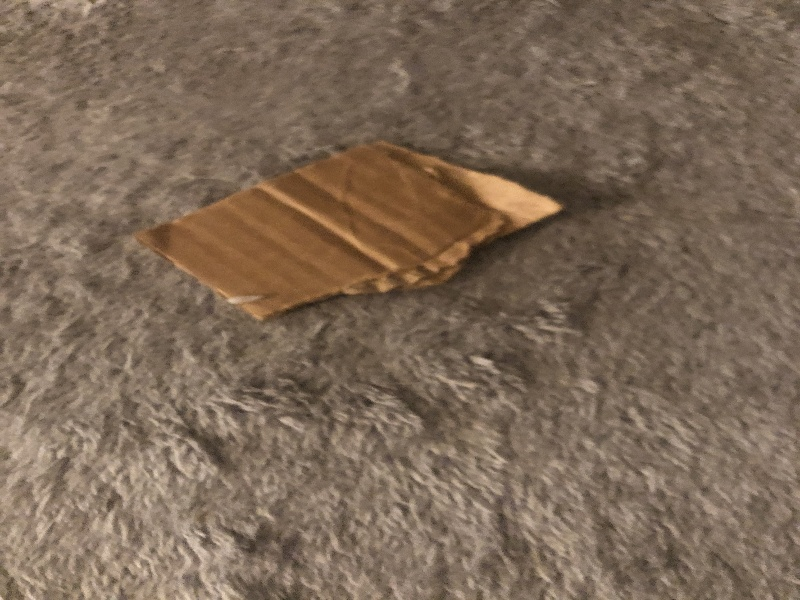cardboard: (134, 135, 574, 327)
